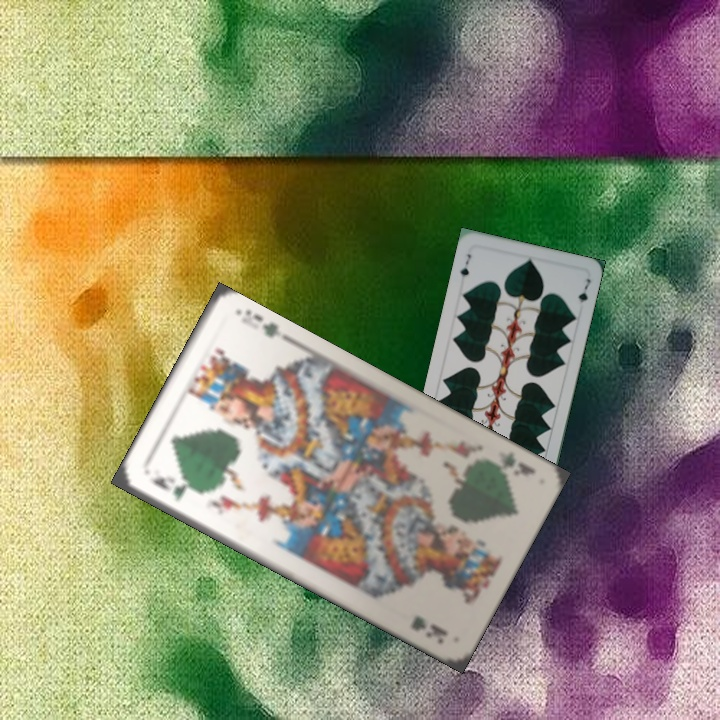G7: (456, 250, 473, 284)
GK: (480, 447, 538, 479), (145, 473, 190, 505)
